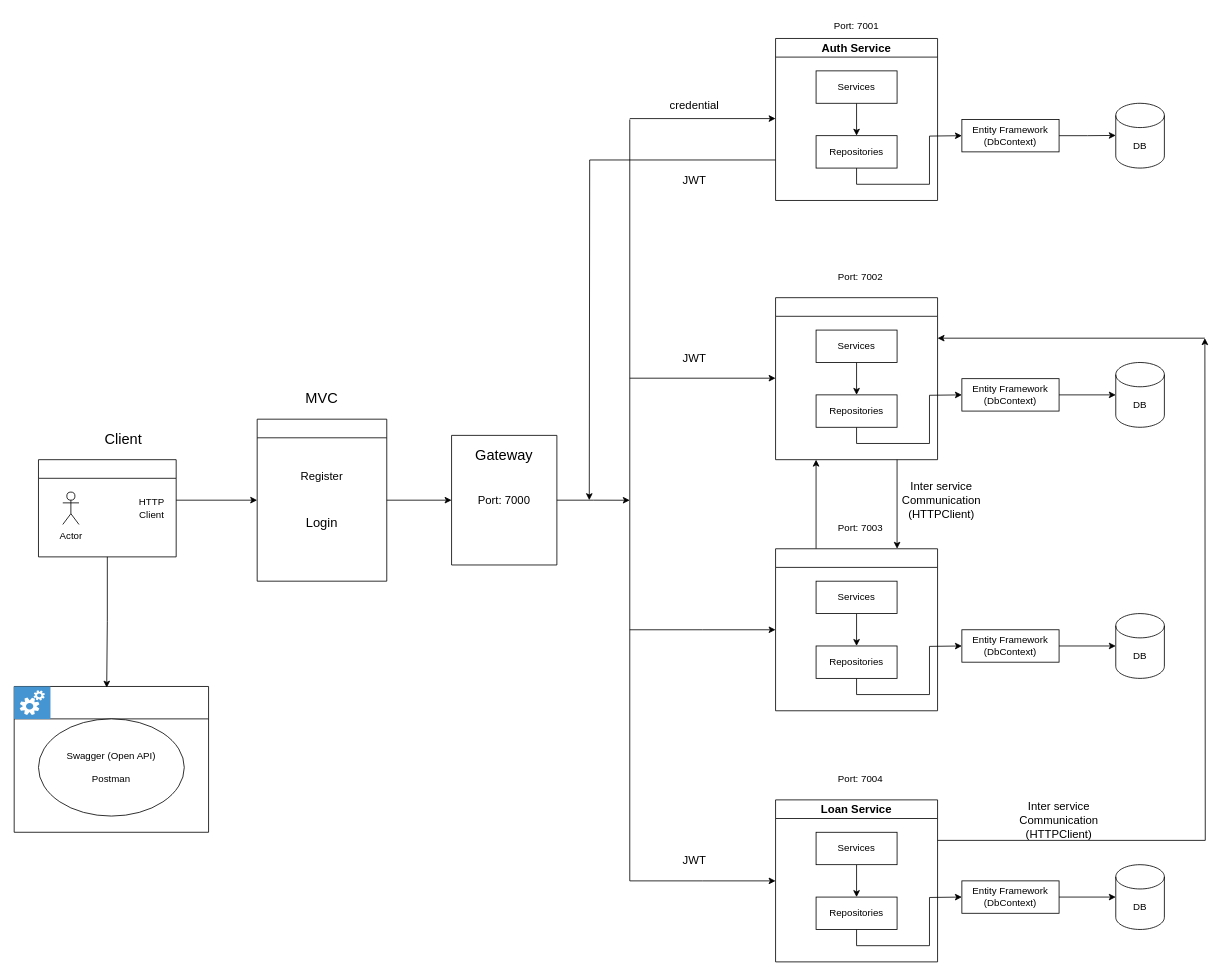
Image size: 1226x976. Some labels were removed from this diagram. The shapes that lost their labels are listed below. From the top down, each one's box as (x1, y1, x2, y2) in pixels, then its label:
(775, 297, 938, 460): Account Service
(38, 459, 176, 557): Browser (Client)
(256, 418, 387, 581): MVC Web Page
(775, 548, 938, 711): Transaction Service
(13, 686, 209, 832): Testing
